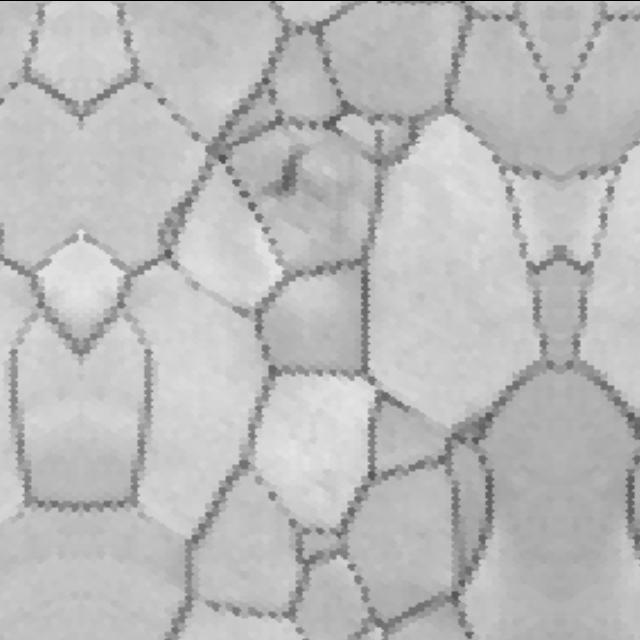good_void: (258, 143, 307, 202)
